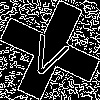V: (25, 25, 75, 81)
